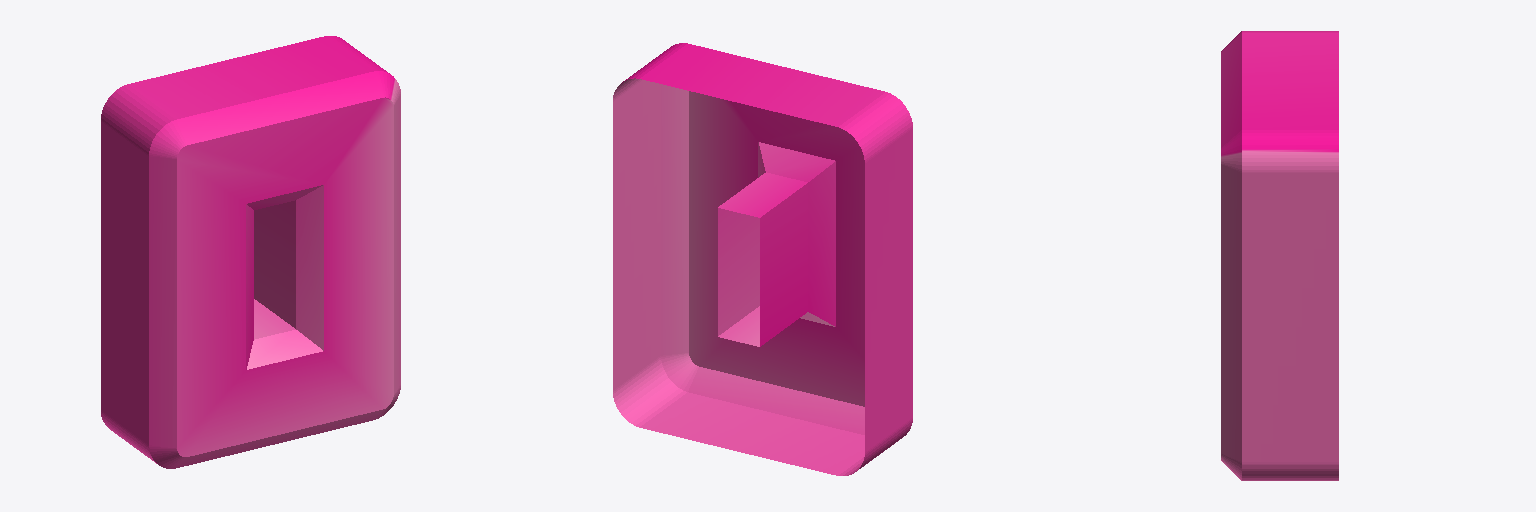
3 views of the same model, side by side, from view 1: azimuth 30°, elevation 25°; view 2: azimuth 150°, elevation 25°; view 3: azimuth 270°, elevation 25° (orthographic).
Visible parts, largest first — view 1: テキスト; view 2: テキスト; view 3: テキスト.
Part boxes in pixels (bbox=[...]): テキスト: bbox=[101, 36, 400, 468]; テキスト: bbox=[613, 43, 912, 475]; テキスト: bbox=[1221, 31, 1338, 480].
Bounding box in the file's own units: 1.57 × 2.07 × 0.63.
1 materials, 1 textured.